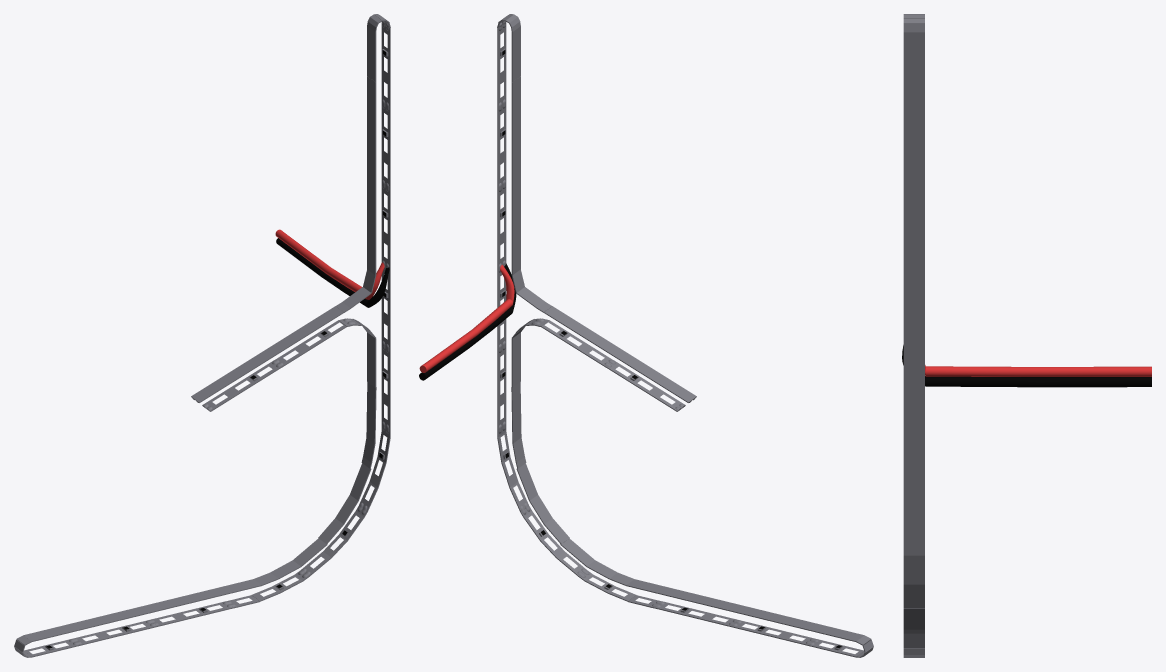
File: FIXED-LED.glb
3 views of the same model, side by side, from view 1: azimuth 30°, elevation 25°; view 2: azimuth 150°, elevation 25°; view 3: azimuth 270°, elevation 25° (orthographic). The views are drawn at different scales.
Visible parts, largest first — view 1: FIXED-LED; view 2: FIXED-LED; view 3: FIXED-LED.
Part boxes in pixels (left/top/right/bottom): FIXED-LED: left=14, top=14, right=390, bottom=657; FIXED-LED: left=419, top=14, right=873, bottom=657; FIXED-LED: left=902, top=14, right=1151, bottom=657.
Bounding box in the file's own units: 31.9 × 45.64 × 14.64.
